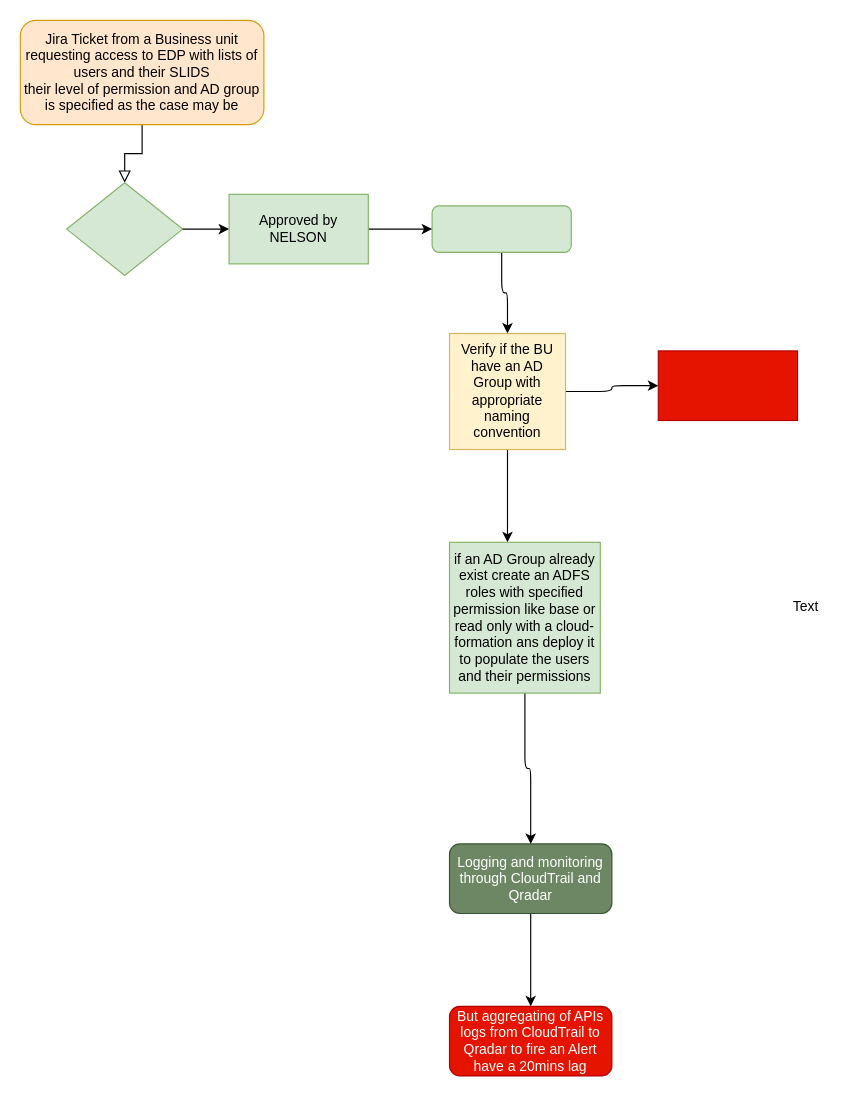
This 849x1096 diagram has some shape labels left out. The box of each missing label's shape, as (x1, y1, x2, y2) in pixels:
Assign to Abhilash: (431, 205, 571, 252)
Assign to Nelson: (66, 182, 183, 276)
If not create a request for a new AD group for the BU: (657, 350, 798, 420)
